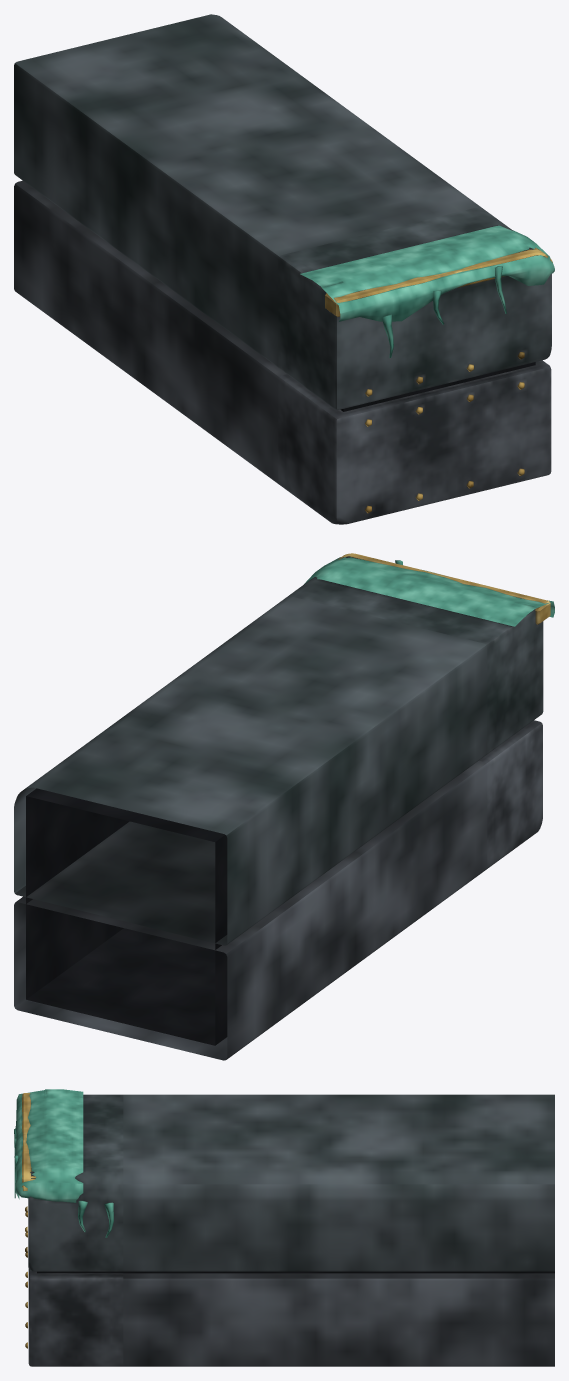
The model's file is ClockLung_Edge_R.fbx.
3 renders of one model, top to bottom at view 1: azimuth 30°, elevation 25°; view 2: azimuth 150°, elevation 25°; view 3: azimuth 270°, elevation 25°, orthographic. The views are drawn at different scales.
Visible parts, largest first — view 1: ClockLung_Edge_R; view 2: ClockLung_Edge_R; view 3: ClockLung_Edge_R.
Boxes of the visible parts, x1,y1,x2,y2 form: ClockLung_Edge_R: [14, 14, 554, 524]; ClockLung_Edge_R: [14, 553, 554, 1060]; ClockLung_Edge_R: [14, 1089, 554, 1366].
Bounding box in the file's own units: 1.02 × 1.01 × 2.57.
